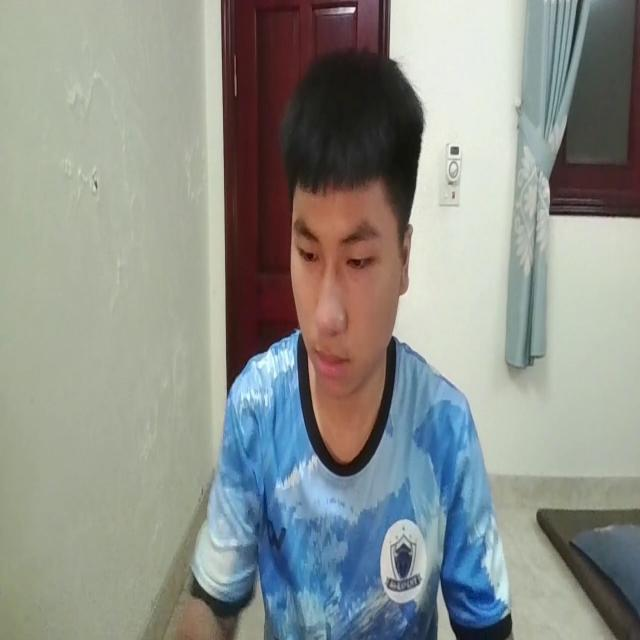student: (153, 46, 516, 640)
